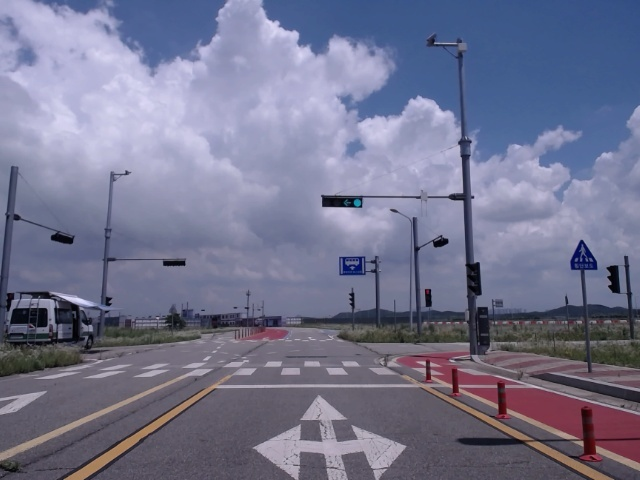all_green_4: (324, 194, 362, 209)
